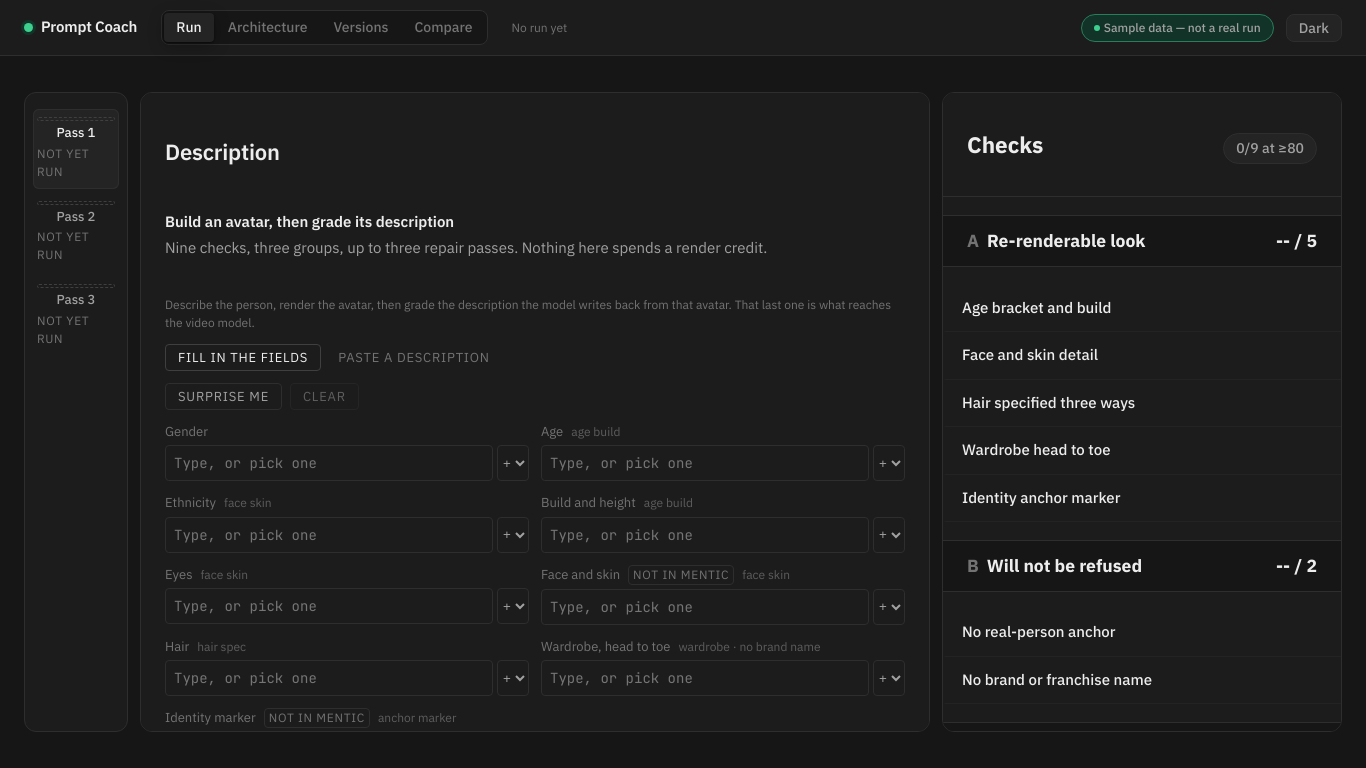
Test: App shell › renders the real Architecture screen, not the Task 12 stub
Click the link "Architecture": (268, 27) [228,18,307,36]
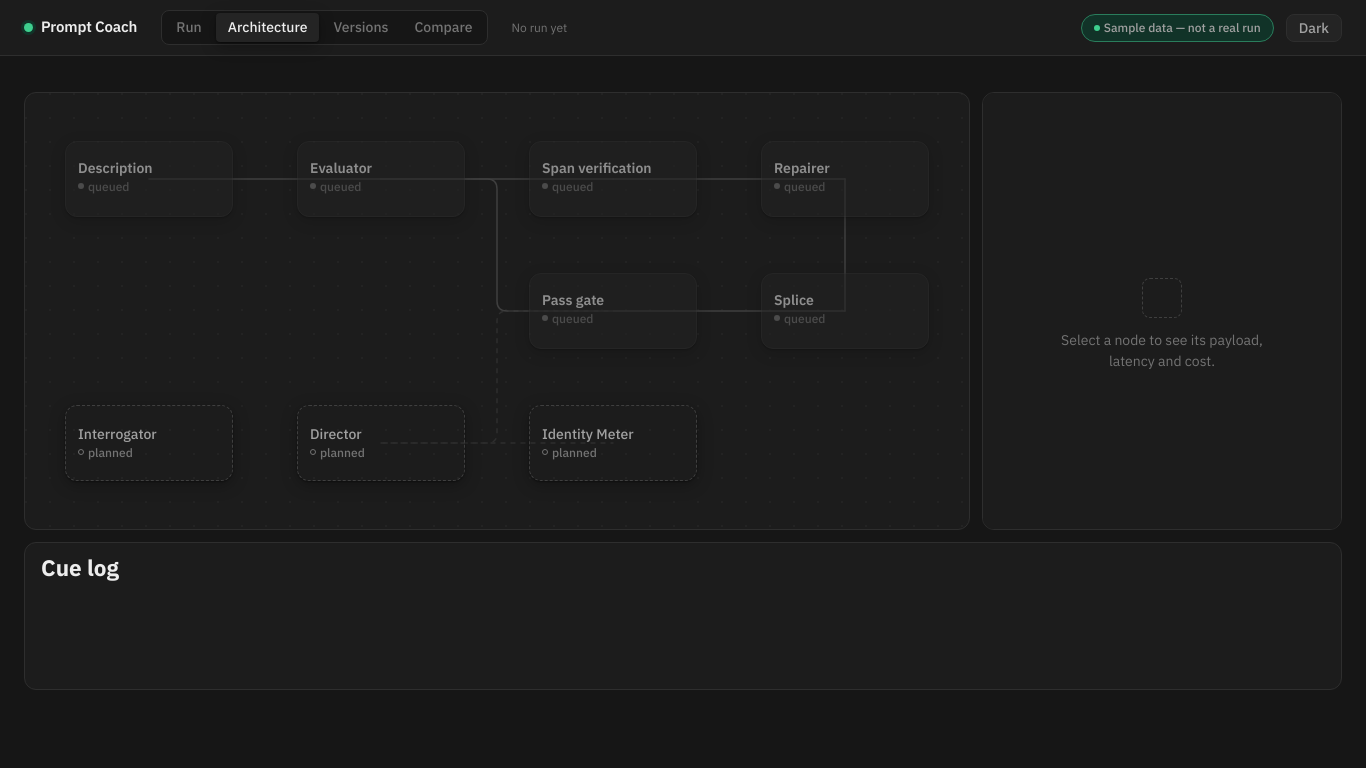
Now the button with test id "node-evaluator" is shown, box [297,141,465,217]
Now the button with test id "node-interrogator" shows "planned", box [65,405,233,481]
